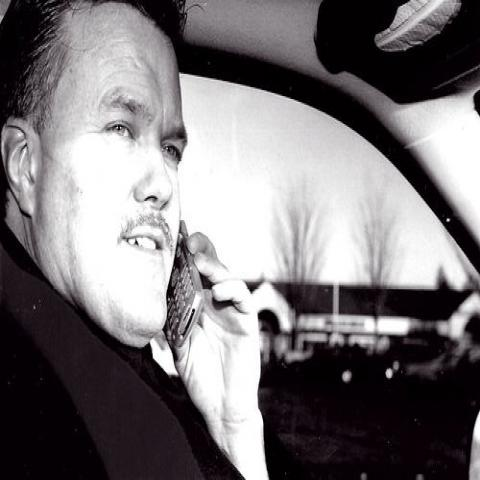car: (384, 324, 458, 373)
